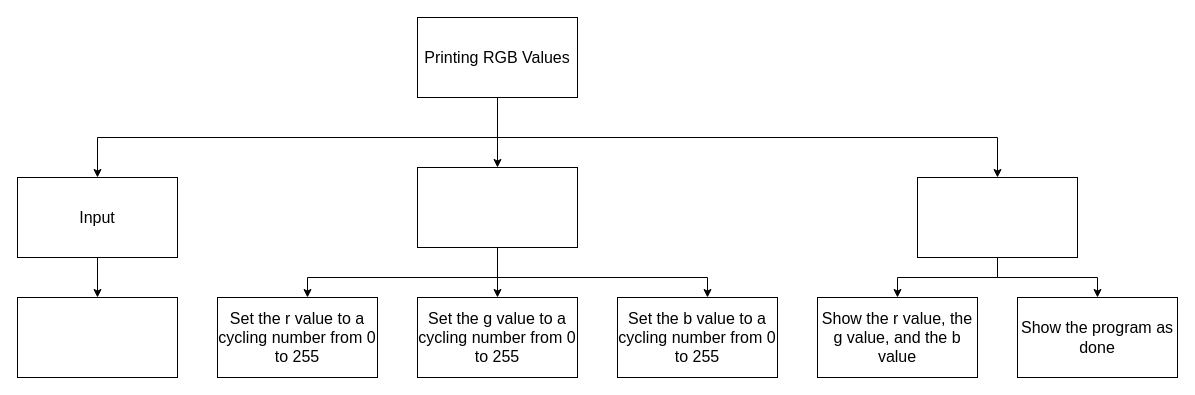
Some shapes in this 1195 by 395 pixel diagram are drawn without their labels. Each missing label, with the centre of its shape:
Output: [997,217]
Process: [497,207]
Set a dummy value: [97,337]
